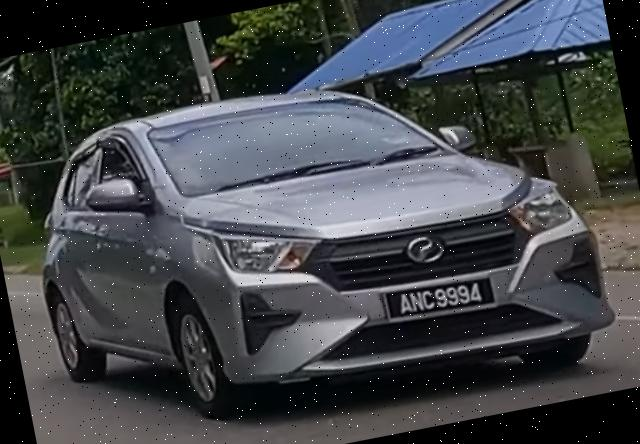License_Plate: (379, 270, 499, 328)
car: (12, 33, 624, 444)
